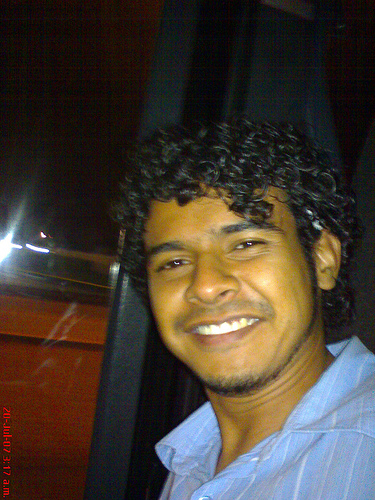without_mask: (115, 143, 352, 403)
